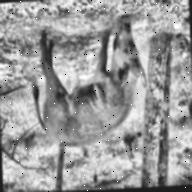boar: (20, 14, 143, 158)
